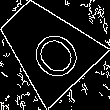O_NW: (13, 14, 80, 80)
